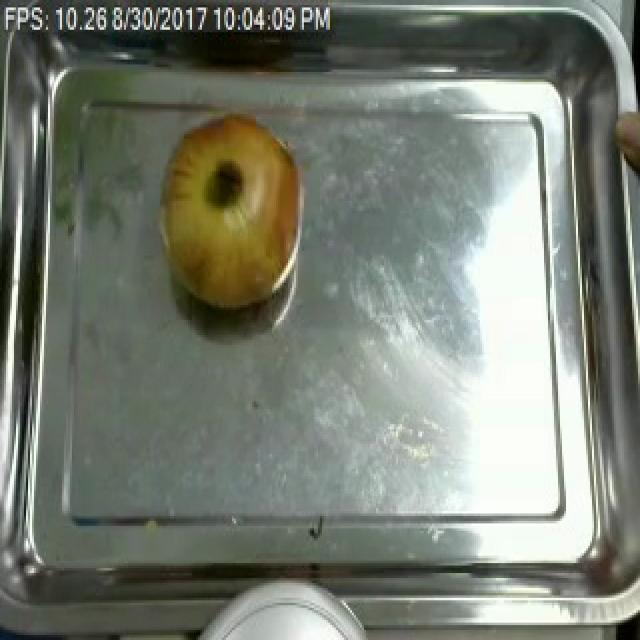fruit: (154, 107, 310, 315), (608, 99, 640, 191)
